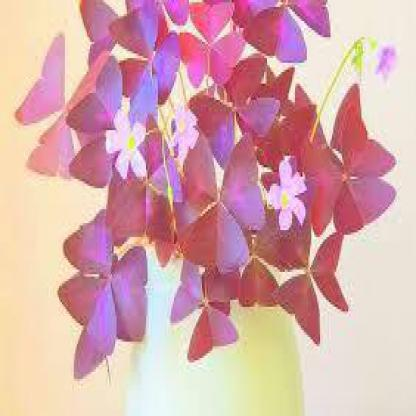Kupu-Kupu: (171, 150, 264, 282), (26, 82, 110, 201), (65, 243, 144, 352), (308, 124, 386, 220), (277, 243, 342, 315)
